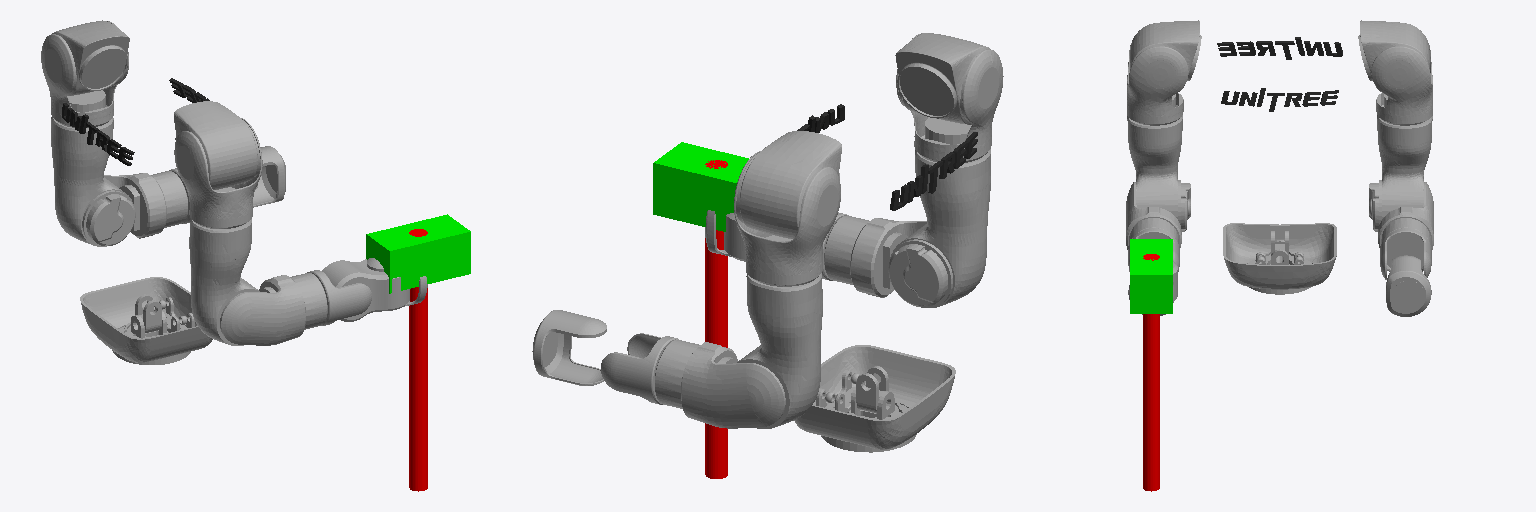
--- Facts derived from the render (not from the file) ---
The picture shows the robot from 3 angles, left to right: view 1: azimuth 30°, elevation 25°; view 2: azimuth 150°, elevation 25°; view 3: azimuth 270°, elevation 25°; orthographic projection.
Robot: g1_29dof — 28 links, 27 joints (8 revolute, 19 fixed); root link pelvis; default pose: every joint at zero.
Visible links, largest first — view 1: left_shoulder_yaw_link, waist_support_link, right_elbow_link, cart, right_shoulder_yaw_link, right_shoulder_pitch_link, right_shoulder_roll_link, pole, left_shoulder_pitch_link, left_elbow_link, left_shoulder_roll_link, right_wrist_pitch_link (+5 smaller); view 2: right_shoulder_yaw_link, waist_support_link, left_elbow_link, left_shoulder_yaw_link, left_shoulder_pitch_link, left_shoulder_roll_link, cart, right_shoulder_pitch_link, right_shoulder_roll_link, right_elbow_link, left_wrist_yaw_link, pole (+5 smaller); view 3: waist_support_link, left_shoulder_yaw_link, right_shoulder_yaw_link, left_shoulder_roll_link, right_shoulder_roll_link, cart, pole, logo_link, left_wrist_yaw_link, left_shoulder_pitch_link, right_shoulder_pitch_link, left_wrist_roll_link (+4 smaller).
Boxes of the visible links, left/top/right/bottom form: left_shoulder_yaw_link: left=51, top=117, right=135, bottom=246; waist_support_link: left=80, top=277, right=212, bottom=362; right_elbow_link: left=220, top=273, right=327, bottom=345; cart: left=366, top=214, right=470, bottom=293; right_shoulder_yaw_link: left=189, top=218, right=259, bottom=345; right_shoulder_pitch_link: left=174, top=101, right=257, bottom=189; right_shoulder_roll_link: left=174, top=118, right=262, bottom=228; pole: left=409, top=229, right=427, bottom=491; left_shoulder_pitch_link: left=52, top=20, right=129, bottom=95; left_elbow_link: left=104, top=171, right=187, bottom=238; left_shoulder_roll_link: left=41, top=21, right=128, bottom=127; right_wrist_pitch_link: left=322, top=259, right=409, bottom=321; right_shoulder_yaw_link: left=888, top=149, right=990, bottom=307; waist_support_link: left=794, top=345, right=955, bottom=449; left_elbow_link: left=655, top=340, right=785, bottom=428; left_shoulder_yaw_link: left=737, top=273, right=822, bottom=428; left_shoulder_pitch_link: left=740, top=131, right=841, bottom=238; left_shoulder_roll_link: left=734, top=151, right=840, bottom=286; cart: left=653, top=142, right=748, bottom=231; right_shoulder_pitch_link: left=895, top=33, right=989, bottom=124; right_shoulder_roll_link: left=896, top=33, right=1003, bottom=162; right_elbow_link: left=824, top=216, right=926, bottom=297; left_wrist_yaw_link: left=532, top=310, right=606, bottom=385; pole: left=705, top=160, right=727, bottom=478; waist_support_link: left=1223, top=223, right=1336, bottom=289; left_shoulder_yaw_link: left=1369, top=115, right=1432, bottom=231; right_shoulder_yaw_link: left=1127, top=115, right=1190, bottom=231; left_shoulder_roll_link: left=1371, top=22, right=1432, bottom=125; right_shoulder_roll_link: left=1127, top=22, right=1188, bottom=125; cart: left=1130, top=239, right=1172, bottom=313; pole: left=1143, top=254, right=1159, bottom=491; logo_link: left=1217, top=37, right=1342, bottom=111; left_wrist_yaw_link: left=1386, top=255, right=1431, bottom=316; left_shoulder_pitch_link: left=1358, top=20, right=1429, bottom=91; right_shoulder_pitch_link: left=1130, top=20, right=1201, bottom=91; left_wrist_roll_link: left=1380, top=228, right=1431, bottom=279.
Size in the robot's own frame: 0.3639 by 0.3632 by 0.4866 metres.
17 mesh visuals loaded from 23 distinct referenced files (17 OBJ); not drawn: 6 (reference not matched to a file when rendering).

URDF robot description (g1_29dof):
<robot name="g1_29dof">
  <mujoco>
    <compiler meshdir="meshes" discardvisual="false"/>
  </mujoco>

  <!-- [CAUTION] uncomment when convert to mujoco -->
  <!-- <link name="world"></link>
  <joint name="floating_base_joint" type="floating">
    <parent link="world"/>
    <child link="pelvis"/>
  </joint> -->

  <link name="pelvis">
    <inertial>
      <origin xyz="0 0 -0.07605" rpy="0 0 0"/>
      <mass value="3.813"/>
      <inertia ixx="0.010549" ixy="0" ixz="2.1E-06" iyy="0.0093089" iyz="0" izz="0.0079184"/>
    </inertial>
    <visual>
      <origin xyz="0 0 0" rpy="0 0 0"/>
      <geometry>
        <mesh filename="meshes/pelvis.obj"/>
      </geometry>
      <material name="dark">
        <color rgba="0.2 0.2 0.2 1"/>
      </material>
    </visual>
  </link>
  <link name="pelvis_contour_link">
    <inertial>
      <origin xyz="0 0 0" rpy="0 0 0"/>
      <mass value="0.001"/>
      <inertia ixx="1e-7" ixy="0" ixz="0" iyy="1e-7" iyz="0" izz="1e-7"/>
    </inertial>
    <visual>
      <origin xyz="0 0 0" rpy="0 0 0"/>
      <geometry>
        <mesh filename="meshes/pelvis_contour_link.obj"/>
      </geometry>
      <material name="white">
        <color rgba="0.7 0.7 0.7 1"/>
      </material>
    </visual>
    <!-- <collision>
      <origin xyz="0 0 0" rpy="0 0 0"/>
      <geometry>
        <mesh filename="meshes/pelvis_contour_link.obj"/>
      </geometry>
    </collision> -->
  </link>
  <joint name="pelvis_contour_joint" type="fixed">
    <parent link="pelvis"/>
    <child link="pelvis_contour_link"/>
  </joint>

  <!-- Legs -->
  <!-- <link name="left_hip_pitch_link">
    <inertial>
      <origin xyz="0.002741 0.047791 -0.02606" rpy="0 0 0"/>
      <mass value="1.35"/>
      <inertia ixx="0.001811" ixy="3.68E-05" ixz="-3.44E-05" iyy="0.0014193" iyz="0.000171" izz="0.0012812"/>
    </inertial>
    <visual>
      <origin xyz="0 0 0" rpy="0 0 0"/>
      <geometry>
        <mesh filename="meshes/left_hip_pitch_link.obj"/>
      </geometry>
      <material name="dark">
        <color rgba="0.2 0.2 0.2 1"/>
      </material>
    </visual>
    <collision>
      <origin xyz="0 0 0" rpy="0 0 0"/>
      <geometry>
        <mesh filename="meshes/left_hip_pitch_link.obj"/>
      </geometry>
    </collision>
  </link>
  <joint name="left_hip_pitch_joint" type="revolute">
    <origin xyz="0 0.064452 -0.1027" rpy="0 0 0"/>
    <parent link="pelvis"/>
    <child link="left_hip_pitch_link"/>
    <axis xyz="0 1 0"/>
    <limit lower="-2.5307" upper="2.8798" effort="88" velocity="32"/>
  </joint>
  <link name="left_hip_roll_link">
    <inertial>
      <origin xyz="0.029812 -0.001045 -0.087934" rpy="0 0 0"/>
      <mass value="1.52"/>
      <inertia ixx="0.0023773" ixy="-3.8E-06" ixz="-0.0003908" iyy="0.0024123" iyz="1.84E-05" izz="0.0016595"/>
    </inertial>
    <visual>
      <origin xyz="0 0 0" rpy="0 0 0"/>
      <geometry>
        <mesh filename="meshes/left_hip_roll_link.obj"/>
      </geometry>
      <material name="white">
        <color rgba="0.7 0.7 0.7 1"/>
      </material>
    </visual>
    <collision>
      <origin xyz="0 0 0" rpy="0 0 0"/>
      <geometry>
        <mesh filename="meshes/left_hip_roll_link.obj"/>
      </geometry>
    </collision>
  </link>
  <joint name="left_hip_roll_joint" type="revolute">
    <origin xyz="0 0.052 -0.030465" rpy="0 -0.1749 0"/>
    <parent link="left_hip_pitch_link"/>
    <child link="left_hip_roll_link"/>
    <axis xyz="1 0 0"/>
    <limit lower="-0.5236" upper="2.9671" effort="88" velocity="32"/>
  </joint>
  <link name="left_hip_yaw_link">
    <inertial>
      <origin xyz="-0.057709 -0.010981 -0.15078" rpy="0 0 0"/>
      <mass value="1.702"/>
      <inertia ixx="0.0057774" ixy="-0.0005411" ixz="-0.0023948" iyy="0.0076124" iyz="-0.0007072" izz="0.003149"/>
    </inertial>
    <visual>
      <origin xyz="0 0 0" rpy="0 0 0"/>
      <geometry>
        <mesh filename="meshes/left_hip_yaw_link.obj"/>
      </geometry>
      <material name="white">
        <color rgba="0.7 0.7 0.7 1"/>
      </material>
    </visual>
    <collision>
      <origin xyz="0 0 0" rpy="0 0 0"/>
      <geometry>
        <mesh filename="meshes/left_hip_yaw_link.obj"/>
      </geometry>
    </collision>
  </link>
  <joint name="left_hip_yaw_joint" type="revolute">
    <origin xyz="0.025001 0 -0.12412" rpy="0 0 0"/>
    <parent link="left_hip_roll_link"/>
    <child link="left_hip_yaw_link"/>
    <axis xyz="0 0 1"/>
    <limit lower="-2.7576" upper="2.7576" effort="88" velocity="32"/>
  </joint>
  <link name="left_knee_link">
    <inertial>
      <origin xyz="0.005457 0.003964 -0.12074" rpy="0 0 0"/>
      <mass value="1.932"/>
      <inertia ixx="0.011329" ixy="4.82E-05" ixz="-4.49E-05" iyy="0.011277" iyz="-0.0007146" izz="0.0015168"/>
    </inertial>
    <visual>
      <origin xyz="0 0 0" rpy="0 0 0"/>
      <geometry>
        <mesh filename="meshes/left_knee_link.obj"/>
      </geometry>
      <material name="white">
        <color rgba="0.7 0.7 0.7 1"/>
      </material>
    </visual>
    <collision>
      <origin xyz="0 0 0" rpy="0 0 0"/>
      <geometry>
        <mesh filename="meshes/left_knee_link.obj"/>
      </geometry>
    </collision>
  </link>
  <joint name="left_knee_joint" type="revolute">
    <origin xyz="-0.078273 0.0021489 -0.17734" rpy="0 0.1749 0"/>
    <parent link="left_hip_yaw_link"/>
    <child link="left_knee_link"/>
    <axis xyz="0 1 0"/>
    <limit lower="-0.087267" upper="2.8798" effort="139" velocity="20"/>
  </joint>
  <link name="left_ankle_pitch_link">
    <inertial>
      <origin xyz="-0.007269 0 0.011137" rpy="0 0 0"/>
      <mass value="0.074"/>
      <inertia ixx="8.4E-06" ixy="0" ixz="-2.9E-06" iyy="1.89E-05" iyz="0" izz="1.26E-05"/>
    </inertial>
    <visual>
      <origin xyz="0 0 0" rpy="0 0 0"/>
      <geometry>
        <mesh filename="meshes/left_ankle_pitch_link.obj"/>
      </geometry>
      <material name="white">
        <color rgba="0.7 0.7 0.7 1"/>
      </material>
    </visual>
    <collision>
      <origin xyz="0 0 0" rpy="0 0 0"/>
      <geometry>
        <mesh filename="meshes/left_ankle_pitch_link.obj"/>
      </geometry>
    </collision>
  </link>
  <joint name="left_ankle_pitch_joint" type="revolute">
    <origin xyz="0 -9.4445E-05 -0.30001" rpy="0 0 0"/>
    <parent link="left_knee_link"/>
    <child link="left_ankle_pitch_link"/>
    <axis xyz="0 1 0"/>
    <limit lower="-0.87267" upper="0.5236" effort="50" velocity="37"/>
  </joint>
  <link name="left_ankle_roll_link">
    <inertial>
      <origin xyz="0.026505 0 -0.016425" rpy="0 0 0"/>
      <mass value="0.608"/>
      <inertia ixx="0.0002231" ixy="2E-07" ixz="8.91E-05" iyy="0.0016161" iyz="-1E-07" izz="0.0016667"/>
    </inertial>
    <visual>
      <origin xyz="0 0 0" rpy="0 0 0"/>
      <geometry>
        <mesh filename="meshes/left_ankle_roll_link.obj"/>
      </geometry>
      <material name="dark">
        <color rgba="0.2 0.2 0.2 1"/>
      </material>
    </visual>
    <collision>
      <origin xyz="-0.05 0.025 -0.03" rpy="0 0 0"/>
      <geometry>
        <sphere radius="0.005"/>
      </geometry>
    </collision>
    <collision>
      <origin xyz="-0.05 -0.025 -0.03" rpy="0 0 0"/>
      <geometry>
        <sphere radius="0.005"/>
      </geometry>
    </collision>
    <collision>
      <origin xyz="0.12 0.03 -0.03" rpy="0 0 0"/>
      <geometry>
        <sphere radius="0.005"/>
      </geometry>
    </collision>
    <collision>
      <origin xyz="0.12 -0.03 -0.03" rpy="0 0 0"/>
      <geometry>
        <sphere radius="0.005"/>
      </geometry>
    </collision>
  </link>
  <joint name="left_ankle_roll_joint" type="revolute">
    <origin xyz="0 0 -0.017558" rpy="0 0 0"/>
    <parent link="left_ankle_pitch_link"/>
    <child link="left_ankle_roll_link"/>
    <axis xyz="1 0 0"/>
    <limit lower="-0.2618" upper="0.2618" effort="50" velocity="37"/>
  </joint>
  <link name="right_hip_pitch_link">
    <inertial>
      <origin xyz="0.002741 -0.047791 -0.02606" rpy="0 0 0"/>
      <mass value="1.35"/>
      <inertia ixx="0.001811" ixy="-3.68E-05" ixz="-3.44E-05" iyy="0.0014193" iyz="-0.000171" izz="0.0012812"/>
    </inertial>
    <visual>
      <origin xyz="0 0 0" rpy="0 0 0"/>
      <geometry>
        <mesh filename="meshes/right_hip_pitch_link.obj"/>
      </geometry>
      <material name="dark">
        <color rgba="0.2 0.2 0.2 1"/>
      </material>
    </visual>
    <collision>
      <origin xyz="0 0 0" rpy="0 0 0"/>
      <geometry>
        <mesh filename="meshes/right_hip_pitch_link.obj"/>
      </geometry>
    </collision>
  </link>
  <joint name="right_hip_pitch_joint" type="revolute">
    <origin xyz="0 -0.064452 -0.1027" rpy="0 0 0"/>
    <parent link="pelvis"/>
    <child link="right_hip_pitch_link"/>
    <axis xyz="0 1 0"/>
    <limit lower="-2.5307" upper="2.8798" effort="88" velocity="32"/>
  </joint>
  <link name="right_hip_roll_link">
    <inertial>
      <origin xyz="0.029812 0.001045 -0.087934" rpy="0 0 0"/>
      <mass value="1.52"/>
      <inertia ixx="0.0023773" ixy="3.8E-06" ixz="-0.0003908" iyy="0.0024123" iyz="-1.84E-05" izz="0.0016595"/>
    </inertial>
    <visual>
      <origin xyz="0 0 0" rpy="0 0 0"/>
      <geometry>
        <mesh filename="meshes/right_hip_roll_link.obj"/>
      </geometry>
      <material name="white">
        <color rgba="0.7 0.7 0.7 1"/>
      </material>
    </visual>
    <collision>
      <origin xyz="0 0 0" rpy="0 0 0"/>
      <geometry>
        <mesh filename="meshes/right_hip_roll_link.obj"/>
      </geometry>
    </collision>
  </link>
  <joint name="right_hip_roll_joint" type="revolute">
    <origin xyz="0 -0.052 -0.030465" rpy="0 -0.1749 0"/>
    <parent link="right_hip_pitch_link"/>
    <child link="right_hip_roll_link"/>
    <axis xyz="1 0 0"/>
    <limit lower="-2.9671" upper="0.5236" effort="88" velocity="32"/>
  </joint>
  <link name="right_hip_yaw_link">
    <inertial>
      <origin xyz="-0.057709 0.010981 -0.15078" rpy="0 0 0"/>
      <mass value="1.702"/>
      <inertia ixx="0.0057774" ixy="0.0005411" ixz="-0.0023948" iyy="0.0076124" iyz="0.0007072" izz="0.003149"/>
    </inertial>
    <visual>
      <origin xyz="0 0 0" rpy="0 0 0"/>
      <geometry>
        <mesh filename="meshes/right_hip_yaw_link.obj"/>
      </geometry>
      <material name="white">
        <color rgba="0.7 0.7 0.7 1"/>
      </material>
    </visual>
    <collision>
      <origin xyz="0 0 0" rpy="0 0 0"/>
      <geometry>
        <mesh filename="meshes/right_hip_yaw_link.obj"/>
      </geometry>
    </collision>
  </link>
  <joint name="right_hip_yaw_joint" type="revolute">
    <origin xyz="0.025001 0 -0.12412" rpy="0 0 0"/>
    <parent link="right_hip_roll_link"/>
    <child link="right_hip_yaw_link"/>
    <axis xyz="0 0 1"/>
    <limit lower="-2.7576" upper="2.7576" effort="88" velocity="32"/>
  </joint>
  <link name="right_knee_link">
    <inertial>
      <origin xyz="0.005457 -0.003964 -0.12074" rpy="0 0 0"/>
      <mass value="1.932"/>
      <inertia ixx="0.011329" ixy="-4.82E-05" ixz="4.49E-05" iyy="0.011277" iyz="0.0007146" izz="0.0015168"/>
    </inertial>
    <visual>
      <origin xyz="0 0 0" rpy="0 0 0"/>
      <geometry>
        <mesh filename="meshes/right_knee_link.obj"/>
      </geometry>
      <material name="white">
        <color rgba="0.7 0.7 0.7 1"/>
      </material>
    </visual>
    <collision>
      <origin xyz="0 0 0" rpy="0 0 0"/>
      <geometry>
        <mesh filename="meshes/right_knee_link.obj"/>
      </geometry>
    </collision>
  </link>
  <joint name="right_knee_joint" type="revolute">
    <origin xyz="-0.078273 -0.0021489 -0.17734" rpy="0 0.1749 0"/>
    <parent link="right_hip_yaw_link"/>
    <child link="right_knee_link"/>
    <axis xyz="0 1 0"/>
    <limit lower="-0.087267" upper="2.8798" effort="139" velocity="20"/>
  </joint>
  <link name="right_ankle_pitch_link">
    <inertial>
      <origin xyz="-0.007269 0 0.011137" rpy="0 0 0"/>
      <mass value="0.074"/>
      <inertia ixx="8.4E-06" ixy="0" ixz="-2.9E-06" iyy="1.89E-05" iyz="0" izz="1.26E-05"/>
    </inertial>
    <visual>
      <origin xyz="0 0 0" rpy="0 0 0"/>
      <geometry>
        <mesh filename="meshes/right_ankle_pitch_link.obj"/>
      </geometry>
      <material name="white">
        <color rgba="0.7 0.7 0.7 1"/>
      </material>
    </visual>
    <collision>
      <origin xyz="0 0 0" rpy="0 0 0"/>
      <geometry>
        <mesh filename="meshes/right_ankle_pitch_link.obj"/>
      </geometry>
    </collision>
  </link>
  <joint name="right_ankle_pitch_joint" type="revolute">
    <origin xyz="0 9.4445E-05 -0.30001" rpy="0 0 0"/>
    <parent link="right_knee_link"/>
    <child link="right_ankle_pitch_link"/>
    <axis xyz="0 1 0"/>
    <limit lower="-0.87267" upper="0.5236" effort="50" velocity="37"/>
  </joint>
  <link name="right_ankle_roll_link">
    <inertial>
      <origin xyz="0.026505 0 -0.016425" rpy="0 0 0"/>
      <mass value="0.608"/>
      <inertia ixx="0.0002231" ixy="-2E-07" ixz="8.91E-05" iyy="0.0016161" iyz="1E-07" izz="0.0016667"/>
    </inertial>
    <visual>
      <origin xyz="0 0 0" rpy="0 0 0"/>
      <geometry>
        <mesh filename="meshes/right_ankle_roll_link.obj"/>
      </geometry>
      <material name="dark">
        <color rgba="0.2 0.2 0.2 1"/>
      </material>
    </visual>
    <collision>
      <origin xyz="-0.05 0.025 -0.03" rpy="0 0 0"/>
      <geometry>
        <sphere radius="0.005"/>
      </geometry>
    </collision>
    <collision>
      <origin xyz="-0.05 -0.025 -0.03" rpy="0 0 0"/>
      <geometry>
        <sphere radius="0.005"/>
      </geometry>
    </collision>
    <collision>
      <origin xyz="0.12 0.03 -0.03" rpy="0 0 0"/>
      <geometry>
        <sphere radius="0.005"/>
      </geometry>
    </collision>
    <collision>
      <origin xyz="0.12 -0.03 -0.03" rpy="0 0 0"/>
      <geometry>
        <sphere radius="0.005"/>
      </geometry>
    </collision>
  </link>
  <joint name="right_ankle_roll_joint" type="revolute">
    <origin xyz="0 0 -0.017558" rpy="0 0 0"/>
    <parent link="right_ankle_pitch_link"/>
    <child link="right_ankle_roll_link"/>
    <axis xyz="1 0 0"/>
    <limit lower="-0.2618" upper="0.2618" effort="50" velocity="37"/>
  </joint> -->

  <!-- Torso (change 3 dof joint to fixed)--> 
  <link name="waist_yaw_link">
    <inertial>
      <origin xyz="0.003964 0 0.018769" rpy="0 0 0"/>
      <mass value="0.244"/>
      <inertia ixx="9.9587E-05" ixy="-1.833E-06" ixz="-1.2617E-05" iyy="0.00012411" iyz="-1.18E-07" izz="0.00015586"/>
    </inertial>
    <visual>
      <origin xyz="0 0 0" rpy="0 0 0"/>
      <geometry>
        <mesh filename="meshes/waist_yaw_link.obj"/>
      </geometry>
      <material name="white">
        <color rgba="0.7 0.7 0.7 1"/>
      </material>
    </visual>
  </link>
  <joint name="waist_yaw_joint" type="fixed">
    <origin xyz="0 0 0" rpy="0 0 0"/>
    <parent link="pelvis"/>
    <child link="waist_yaw_link"/>
    <axis xyz="0 0 1"/>
    <limit lower="-2.618" upper="2.618" effort="88" velocity="32"/>
  </joint>
  <link name="waist_roll_link">
    <inertial>
      <origin xyz="0 -0.000236 0.010111" rpy="0 0 0"/>
      <mass value="0.047"/>
      <inertia ixx="7.515E-06" ixy="0" ixz="0" iyy="6.398E-06" iyz="9.9E-08" izz="3.988E-06"/>
    </inertial>
    <visual>
      <origin xyz="0 0 0" rpy="0 0 0"/>
      <geometry>
        <mesh filename="meshes/waist_roll_link.obj"/>
      </geometry>
      <material name="white">
        <color rgba="0.7 0.7 0.7 1"/>
      </material>
    </visual>
  </link>
  <joint name="waist_roll_joint" type="fixed">
    <origin xyz="-0.0039635 0 0.035" rpy="0 0 0"/>
    <parent link="waist_yaw_link"/>
    <child link="waist_roll_link"/>
    <axis xyz="1 0 0"/>
    <limit lower="-0.52" upper="0.52" effort="50" velocity="37"/>
  </joint>
  <link name="torso_link">
    <inertial>
      <origin xyz="0.002601 0.000257 0.153719" rpy="0 0 0"/>
      <mass value="8.562"/>
      <inertia ixx="0.065674966" ixy="-8.597E-05" ixz="-0.001737252" iyy="0.053535188" iyz="8.6899E-05" izz="0.030808125"/>
    </inertial>
    <visual>
      <origin xyz="0 0 0" rpy="0 0 0"/>
      <geometry>
        <mesh filename="meshes/torso_link.obj"/>
      </geometry>
      <material name="white">
        <color rgba="0.7 0.7 0.7 1"/>
      </material>
    </visual>
    <!-- <collision>
      <origin xyz="0 0 0" rpy="0 0 0"/>
      <geometry>
        <mesh filename="meshes/torso_link.obj"/>
      </geometry>
    </collision> -->
  </link>
  <joint name="waist_pitch_joint" type="fixed">
    <origin xyz="0 0 0.019" rpy="0 0 0"/>
    <parent link="waist_roll_link"/>
    <child link="torso_link"/>
    <axis xyz="0 1 0"/>
    <limit lower="-0.52" upper="0.52" effort="50" velocity="37"/>
  </joint>

  <!-- LOGO -->
  <joint name="logo_joint" type="fixed">
    <origin xyz="0.0039635 0 -0.054" rpy="0 0 0"/>
    <parent link="torso_link"/>
    <child link="logo_link"/>
  </joint>
  <link name="logo_link">
    <inertial>
      <origin xyz="0 0 0" rpy="0 0 0"/>
      <mass value="0.001"/>
      <inertia ixx="1e-7" ixy="0" ixz="0" iyy="1e-7" iyz="0" izz="1e-7"/>
    </inertial>
    <visual>
      <origin xyz="0 0 0" rpy="0 0 0"/>
      <geometry>
        <mesh filename="meshes/logo_link.obj"/>
      </geometry>
      <material name="dark">
        <color rgba="0.2 0.2 0.2 1"/>
      </material>
    </visual>
    <!-- <collision>
      <origin xyz="0 0 0" rpy="0 0 0"/>
      <geometry>
        <mesh filename="meshes/logo_link.obj"/>
      </geometry>
    </collision> -->
  </link>

  <!-- Head -->
  <link name="head_link">
    <inertial>
      <origin xyz="0.005267 0.000299 0.449869" rpy="0 0 0"/>
      <mass value="1.036"/>
      <inertia ixx="0.004085051" ixy="-2.543E-06" ixz="-6.9455E-05" iyy="0.004185212" iyz="-3.726E-06" izz="0.001807911"/>
    </inertial>
    <visual>
      <origin xyz="0 0 0" rpy="0 0 0"/>
      <geometry>
        <mesh filename="meshes/head_link.obj"/>
      </geometry>
      <material name="dark">
        <color rgba="0.2 0.2 0.2 1"/>
      </material>
    </visual>
    <!-- <collision>
      <origin xyz="0 0 0" rpy="0 0 0"/>
      <geometry>
        <mesh filename="meshes/head_link.obj"/>
      </geometry>
    </collision> -->
  </link>
  <joint name="head_joint" type="fixed">
    <origin xyz="0.0039635 0 -0.054" rpy="0 0 0"/>
    <parent link="torso_link"/>
    <child link="head_link"/>
  </joint>

  <!-- Waist Support -->
  <link name="waist_support_link">
    <inertial>
      <origin xyz="0 0 0" rpy="0 0 0"/>
      <mass value="0.001"/>
      <inertia ixx="1e-7" ixy="0" ixz="0" iyy="1e-7" iyz="0" izz="1e-7"/>
    </inertial>
    <visual>
      <origin xyz="0 0 0" rpy="0 0 0"/>
      <geometry>
        <mesh filename="meshes/waist_support_link.obj"/>
      </geometry>
      <material name="white">
        <color rgba="0.7 0.7 0.7 1"/>
      </material>
    </visual>
    <!-- <collision>
      <origin xyz="0 0 0" rpy="0 0 0"/>
      <geometry>
        <mesh filename="meshes/waist_support_link.obj"/>
      </geometry>
    </collision> -->
  </link>
  <joint name="waist_support_joint" type="fixed">
    <origin xyz="0.0039635 0 -0.054" rpy="0 0 0"/>
    <parent link="torso_link"/>
    <child link="waist_support_link"/>
  </joint>

  <!-- IMU -->
  <link name="imu_link"></link>
  <joint name="imu_joint" type="fixed">
    <origin xyz="-0.03959 -0.00224 0.13792" rpy="0 0 0"/>
    <parent link="torso_link"/>
    <child link="imu_link"/>
  </joint>

  <!-- d435 -->
  <link name="d435_link"></link>
  <joint name="d435_joint" type="fixed">
    <origin xyz="0.0576235 0.01753 0.41987" rpy="0 0.8307767239493009 0"/>
    <parent link="torso_link"/>
    <child link="d435_link"/>
  </joint>

  <!-- mid360 -->
  <link name="mid360_link"></link>
  <joint name="mid360_joint" type="fixed">
    <origin xyz="0.0002835 0.00003 0.40618" rpy="0 0.04014257279586953 0"/>
    <parent link="torso_link"/>
    <child link="mid360_link"/>
  </joint>
  <link name="left_shoulder_pitch_link">
    <inertial>
      <origin xyz="0 0.035892 -0.011628" rpy="0 0 0"/>
      <mass value="0.718"/>
      <inertia ixx="0.0004291" ixy="-9.2E-06" ixz="6.4E-06" iyy="0.000453" iyz="2.26E-05" izz="0.000423"/>
    </inertial>
    <visual>
      <origin xyz="0 0 0" rpy="0 0 0"/>
      <geometry>
        <mesh filename="meshes/left_shoulder_pitch_link.obj"/>
      </geometry>
      <material name="white">
        <color rgba="0.7 0.7 0.7 1"/>
      </material>
    </visual>
    <collision>
      <origin xyz="0 0.04 -0.01" rpy="0 1.5707963267948966 0"/>
      <geometry>
        <cylinder radius="0.03" length="0.05"/>
      </geometry>
    </collision>
  </link>
  <joint name="left_shoulder_pitch_joint" type="fixed">
    <origin xyz="0.0039563 0.10022 0.23778" rpy="0.27931 5.4949E-05 -0.00019159"/>
    <parent link="torso_link"/>
    <child link="left_shoulder_pitch_link"/>
    <axis xyz="0 1 0"/>
    <limit lower="-3.0892" upper="2.6704" effort="25" velocity="37"/>
  </joint>
  <link name="left_shoulder_roll_link">
    <inertial>
      <origin xyz="-0.000227 0.00727 -0.063243" rpy="0 0 0"/>
      <mass value="0.643"/>
      <inertia ixx="0.0006177" ixy="-1E-06" ixz="8.7E-06" iyy="0.0006912" iyz="-5.3E-06" izz="0.0003894"/>
    </inertial>
    <visual>
      <origin xyz="0 0 0" rpy="0 0 0"/>
      <geometry>
        <mesh filename="meshes/left_shoulder_roll_link.obj"/>
      </geometry>
      <material name="white">
        <color rgba="0.7 0.7 0.7 1"/>
      </material>
    </visual>
    <collision>
      <origin xyz="-0.004 0.006 -0.053" rpy="0 0 0"/>
      <geometry>
        <cylinder radius="0.03" length="0.03"/>
      </geometry>
    </collision>
  </link>
  <joint name="left_shoulder_roll_joint" type="fixed">
    <origin xyz="0 0.038 -0.013831" rpy="-0.27925 0 0"/>
    <parent link="left_shoulder_pitch_link"/>
    <child link="left_shoulder_roll_link"/>
    <axis xyz="1 0 0"/>
    <limit lower="-1.5882" upper="2.2515" effort="25" velocity="37"/>
  </joint>
  <link name="left_shoulder_yaw_link">
    <inertial>
      <origin xyz="0.010773 -0.002949 -0.072009" rpy="0 0 0"/>
      <mass value="0.734"/>
      <inertia ixx="0.0009988" ixy="7.9E-06" ixz="0.0001412" iyy="0.0010605" iyz="-2.86E-05" izz="0.0004354"/>
    </inertial>
    <visual>
      <origin xyz="0 0 0" rpy="0 0 0"/>
      <geometry>
        <mesh filename="meshes/left_shoulder_yaw_link.obj"/>
      </geometry>
      <material name="white">
        <color rgba="0.7 0.7 0.7 1"/>
      </material>
    </visual>
    <collision>
      <origin xyz="0 0 0" rpy="0 0 0"/>
      <geometry>
        <mesh filename="meshes/left_shoulder_yaw_link.obj"/>
      </geometry>
    </collision>
  </link>
  <joint name="left_shoulder_yaw_joint" type="fixed">
    <origin xyz="0 0.00624 -0.1032" rpy="0 0 0"/>
    <parent link="left_shoulder_roll_link"/>
    <child link="left_shoulder_yaw_link"/>
    <axis xyz="0 0 1"/>
    <limit lower="-2.618" upper="2.618" effort="25" velocity="37"/>
  </joint>
  <link name="left_elbow_link">
    <inertial>
      <origin xyz="0.064956 0.004454 -0.010062" rpy="0 0 0"/>
      <mass value="0.6"/>
      <inertia ixx="0.0002891" ixy="6.53E-05" ixz="1.72E-05" iyy="0.0004152" iyz="-5.6E-06" izz="0.0004197"/>
    </inertial>
    <visual>
      <origin xyz="0 0 0" rpy="0 0 0"/>
      <geometry>
        <mesh filename="meshes/left_elbow_link.obj"/>
      </geometry>
      <material name="white">
        <color rgba="0.7 0.7 0.7 1"/>
      </material>
    </visual>
    <collision>
      <origin xyz="0 0 0" rpy="0 0 0"/>
      <geometry>
        <mesh filename="meshes/left_elbow_link.obj"/>
      </geometry>
    </collision>
  </link>
  <joint name="left_elbow_joint" type="fixed">
    <origin xyz="0.015783 0 -0.080518" rpy="0 0 0"/>
    <parent link="left_shoulder_yaw_link"/>
    <child link="left_elbow_link"/>
    <axis xyz="0 1 0"/>
    <limit lower="-1.0472" upper="2.0944" effort="25" velocity="37"/>
  </joint>
  <joint name="left_wrist_roll_joint" type="fixed">
    <origin xyz="0.100 0.00188791 -0.010" rpy="0 0 0"/>
    <axis xyz="1 0 0"/>
    <parent link="left_elbow_link"/>
    <child link="left_wrist_roll_link"/>
    <limit effort="25" velocity="37" lower="-1.972222054" upper="1.972222054"/>
  </joint>
  <link name="left_wrist_roll_link">
    <inertial>
      <origin xyz="0.01713944778 0.00053759094 0.00000048864" rpy="0 0 0"/>
      <mass value="0.08544498"/>
      <inertia ixx="0.00004821544023" ixy="-0.00000424511021" ixz="0.00000000510599" iyy="0.00003722899093" iyz="-0.00000000123525" izz="0.00005482106541"/>
    </inertial>
    <visual>
      <origin xyz="0 0 0" rpy="0 0 0"/>
      <geometry>
        <mesh filename="meshes/left_wrist_roll_link.obj"/>
      </geometry>
      <material name="white">
        <color rgba="0.7 0.7 0.7 1"/>
      </material>
    </visual>
    <collision>
      <origin xyz="0 0 0" rpy="0 0 0"/>
      <geometry>
        <mesh filename="meshes/left_wrist_roll_link.obj"/>
      </geometry>
    </collision>
  </link>
  <joint name="left_wrist_pitch_joint" type="fixed">
    <origin xyz="0.038 0 0" rpy="0 0 0"/>
    <axis xyz="0 1 0"/>
    <parent link="left_wrist_roll_link"/>
    <child link="left_wrist_pitch_link"/>
    <limit effort="5" velocity="22" lower="-1.614429558" upper="1.614429558"/>
  </joint>
  <link name="left_wrist_pitch_link">
    <inertial>
      <origin xyz="0.02299989837 -0.00111685314 -0.00111658096" rpy="0 0 0"/>
      <mass value="0.48404956"/>
      <inertia ixx="0.00016579646273" ixy="-0.00001231206746" ixz="0.00001231699194" iyy="0.00042954057410" iyz="0.00000081417712" izz="0.00042953697654"/>
    </inertial>
    <visual>
      <origin xyz="0 0 0" rpy="0 0 0"/>
      <geometry>
        <mesh filename="meshes/left_wrist_pitch_link.obj"/>
      </geometry>
      <material name="white">
        <color rgba="0.7 0.7 0.7 1"/>
      </material>
    </visual>
    <collision>
      <origin xyz="0 0 0" rpy="0 0 0"/>
      <geometry>
        <mesh filename="meshes/left_wrist_pitch_link.obj"/>
      </geometry>
    </collision>
  </link>
  <joint name="left_wrist_yaw_joint" type="fixed">
    <origin xyz="0.046 0 0" rpy="0 0 0"/>
    <axis xyz="0 0 1"/>
    <parent link="left_wrist_pitch_link"/>
    <child link="left_wrist_yaw_link"/>
    <limit effort="5" velocity="22" lower="-1.614429558" upper="1.614429558"/>
  </joint>
  <link name="left_wrist_yaw_link">
    <inertial>
      <origin xyz="0.02200381568 0.00049485096 0.00053861123" rpy="0 0 0"/>
      <mass value="0.08457647"/>
      <inertia ixx="0.00004929128828" ixy="-0.00000045735494" ixz="0.00000445867591" iyy="0.00005973338134" iyz="0.00000043217198" izz="0.00003928083826"/>
    </inertial>
    <visual>
      <origin xyz="0 0 0" rpy="0 0 0"/>
      <geometry>
        <mesh filename="meshes/left_wrist_yaw_link.obj"/>
      </geometry>
      <material name="white">
        <color rgba="0.7 0.7 0.7 1"/>
      </material>
    </visual>
    <collision>
      <origin xyz="0 0 0" rpy="0 0 0"/>
      <geometry>
        <mesh filename="meshes/left_wrist_yaw_link.obj"/>
      </geometry>
    </collision>
  </link>
  <joint name="left_hand_palm_joint" type="fixed">
    <origin xyz="0.0415 0.003 0" rpy="0 0 0"/>
    <parent link="left_wrist_yaw_link"/>
    <child link="left_rubber_hand"/>
  </joint>
  <link name="left_rubber_hand">
    <inertial>
      <origin xyz="0.05361310808 -0.00295905240 0.00215413091" rpy="0 0 0"/>
      <mass value="0.170"/>
      <inertia ixx="0.00010099485234748" ixy="0.00003618590790516" ixz="-0.00000074301518642" iyy="0.00028135871571621" iyz="0.00000330189743286" izz="0.00021894770413514"/>
    </inertial>
    <visual>
      <origin xyz="0 0 0" rpy="0 0 0"/>
      <geometry>
        <mesh filename="meshes/left_rubber_hand.obj"/>
      </geometry>
      <material name="white">
        <color rgba="0.7 0.7 0.7 1"/>
      </material>
    </visual>
  </link>







  <link name="right_shoulder_pitch_link">
    <inertial>
      <origin xyz="0 -0.035892 -0.011628" rpy="0 0 0"/>
      <mass value="0.718"/>
      <inertia ixx="0.0004291" ixy="9.2E-06" ixz="6.4E-06" iyy="0.000453" iyz="-2.26E-05" izz="0.000423"/>
    </inertial>
    <visual>
      <origin xyz="0 0 0" rpy="0 0 0"/>
      <geometry>
        <mesh filename="meshes/right_shoulder_pitch_link.obj"/>
      </geometry>
      <material name="white">
        <color rgba="0.7 0.7 0.7 1"/>
      </material>
    </visual>
    <collision>
      <origin xyz="0 -0.04 -0.01" rpy="0 1.5707963267948966 0"/>
      <geometry>
        <cylinder radius="0.03" length="0.05"/>
      </geometry>
    </collision>
  </link>
  <joint name="right_shoulder_pitch_joint" type="revolute">
    <origin xyz="0.0039563 -0.10021 0.23778" rpy="-0.27931 5.4949E-05 0.00019159"/>
    <parent link="torso_link"/>
    <child link="right_shoulder_pitch_link"/>
    <axis xyz="0 1 0"/>
    <limit lower="-3.0892" upper="2.6704" effort="25" velocity="37"/>
  </joint>
  <link name="right_shoulder_roll_link">
    <inertial>
      <origin xyz="-0.000227 -0.00727 -0.063243" rpy="0 0 0"/>
      <mass value="0.643"/>
      <inertia ixx="0.0006177" ixy="1E-06" ixz="8.7E-06" iyy="0.0006912" iyz="5.3E-06" izz="0.0003894"/>
    </inertial>
    <visual>
      <origin xyz="0 0 0" rpy="0 0 0"/>
      <geometry>
        <mesh filename="meshes/right_shoulder_roll_link.obj"/>
      </geometry>
      <material name="white">
        <color rgba="0.7 0.7 0.7 1"/>
      </material>
    </visual>
    <collision>
      <origin xyz="-0.004 -0.006 -0.053" rpy="0 0 0"/>
      <geometry>
        <cylinder radius="0.03" length="0.03"/>
      </geometry>
    </collision>
  </link>
  <joint name="right_shoulder_roll_joint" type="revolute">
    <origin xyz="0 -0.038 -0.013831" rpy="0.27925 0 0"/>
    <parent link="right_shoulder_pitch_link"/>
    <child link="right_shoulder_roll_link"/>
    <axis xyz="1 0 0"/>
    <limit lower="-2.2515" upper="1.5882" effort="25" velocity="37"/>
  </joint>
  <link name="right_shoulder_yaw_link">
    <inertial>
      <origin xyz="0.010773 0.002949 -0.072009" rpy="0 0 0"/>
      <mass value="0.734"/>
      <inertia ixx="0.0009988" ixy="-7.9E-06" ixz="0.0001412" iyy="0.0010605" iyz="2.86E-05" izz="0.0004354"/>
    </inertial>
    <visual>
      <origin xyz="0 0 0" rpy="0 0 0"/>
      <geometry>
        <mesh filename="meshes/right_shoulder_yaw_link.obj"/>
      </geometry>
      <material name="white">
        <color rgba="0.7 0.7 0.7 1"/>
      </material>
    </visual>
    <collision>
      <origin xyz="0 0 0" rpy="0 0 0"/>
      <geometry>
        <mesh filename="meshes/right_shoulder_yaw_link.obj"/>
      </geometry>
    </collision>
  </link>
  <joint name="right_shoulder_yaw_joint" type="revolute">
    <origin xyz="0 -0.00624 -0.1032" rpy="0 0 0"/>
    <parent link="right_shoulder_roll_link"/>
    <child link="right_shoulder_yaw_link"/>
    <axis xyz="0 0 1"/>
    <limit lower="-2.618" upper="2.618" effort="25" velocity="37"/>
  </joint>
  <link name="right_elbow_link">
    <inertial>
      <origin xyz="0.064956 -0.004454 -0.010062" rpy="0 0 0"/>
      <mass value="0.6"/>
      <inertia ixx="0.0002891" ixy="-6.53E-05" ixz="1.72E-05" iyy="0.0004152" iyz="5.6E-06" izz="0.0004197"/>
    </inertial>
    <visual>
      <origin xyz="0 0 0" rpy="0 0 0"/>
      <geometry>
        <mesh filename="meshes/right_elbow_link.obj"/>
      </geometry>
      <material name="white">
        <color rgba="0.7 0.7 0.7 1"/>
      </material>
    </visual>
    <collision>
      <origin xyz="0 0 0" rpy="0 0 0"/>
      <geometry>
        <mesh filename="meshes/right_elbow_link.obj"/>
      </geometry>
    </collision>
  </link>
  <joint name="right_elbow_joint" type="revolute">
    <origin xyz="0.015783 0 -0.080518" rpy="0 0 0"/>
    <parent link="right_shoulder_yaw_link"/>
    <child link="right_elbow_link"/>
    <axis xyz="0 1 0"/>
    <limit lower="-1.0472" upper="2.0944" effort="25" velocity="37"/>
  </joint>
  <joint name="right_wrist_roll_joint" type="revolute">
    <origin xyz="0.100 -0.00188791 -0.010" rpy="0 0 0"/>
    <axis xyz="1 0 0"/>
    <parent link="right_elbow_link"/>
    <child link="right_wrist_roll_link"/>
    <limit effort="25" velocity="37" lower="-1.972222054" upper="1.972222054"/>
  </joint>
  <link name="right_wrist_roll_link">
    <inertial>
      <origin xyz="0.01713944778 -0.00053759094 0.00000048864" rpy="0 0 0"/>
      <mass value="0.08544498"/>
      <inertia ixx="0.00004821544023" ixy="0.00000424511021" ixz="0.00000000510599" iyy="0.00003722899093" iyz="0.00000000123525" izz="0.00005482106541"/>
    </inertial>
    <visual>
      <origin xyz="0 0 0" rpy="0 0 0"/>
      <geometry>
        <mesh filename="meshes/right_wrist_roll_link.obj"/>
      </geometry>
      <material name="white">
        <color rgba="0.7 0.7 0.7 1"/>
      </material>
    </visual>
    <collision>
      <origin xyz="0 0 0" rpy="0 0 0"/>
      <geometry>
        <mesh filename="meshes/right_wrist_roll_link.obj"/>
      </geometry>
    </collision>
  </link>
  <joint name="right_wrist_pitch_joint" type="revolute">
    <origin xyz="0.038 0 0" rpy="0 0 0"/>
    <axis xyz="0 1 0"/>
    <parent link="right_wrist_roll_link"/>
    <child link="right_wrist_pitch_link"/>
    <limit effort="5" velocity="22" lower="-1.614429558" upper="1.614429558"/>
  </joint>
  <link name="right_wrist_pitch_link">
    <inertial>
      <origin xyz="0.02299989837 0.00111685314 -0.00111658096" rpy="0 0 0"/>
      <mass value="0.48404956"/>
      <inertia ixx="0.00016579646273" ixy="0.00001231206746" ixz="0.00001231699194" iyy="0.00042954057410" iyz="-0.00000081417712" izz="0.00042953697654"/>
    </inertial>
    <visual>
      <origin xyz="0 0 0" rpy="0 0 0"/>
      <geometry>
        <mesh filename="meshes/right_wrist_pitch_link.obj"/>
      </geometry>
      <material name="white">
        <color rgba="0.7 0.7 0.7 1"/>
      </material>
    </visual>
    <collision>
      <origin xyz="0 0 0" rpy="0 0 0"/>
      <geometry>
        <mesh filename="meshes/right_wrist_pitch_link.obj"/>
      </geometry>
    </collision>
  </link>
  <joint name="right_wrist_yaw_joint" type="revolute">
    <origin xyz="0.046 0 0" rpy="0 0 0"/>
    <axis xyz="0 0 1"/>
    <parent link="right_wrist_pitch_link"/>
    <child link="right_wrist_yaw_link"/>
    <limit effort="5" velocity="22" lower="-1.614429558" upper="1.614429558"/>
  </joint>
  <link name="right_wrist_yaw_link">
    <inertial>
      <origin xyz="0.02200381568 -0.00049485096 0.00053861123" rpy="0 0 0"/>
      <mass value="0.08457647"/>
      <inertia ixx="0.00004929128828" ixy="0.00000045735494" ixz="0.00000445867591" iyy="0.00005973338134" iyz="-0.00000043217198" izz="0.00003928083826"/>
    </inertial>
    <visual>
      <origin xyz="0 0 0" rpy="0 0 0"/>
      <geometry>
        <mesh filename="meshes/right_wrist_yaw_link.obj"/>
      </geometry>
      <material name="white">
        <color rgba="0.7 0.7 0.7 1"/>
      </material>
    </visual>
    <collision>
      <origin xyz="0 0 0" rpy="0 0 0"/>
      <geometry>
        <mesh filename="meshes/right_wrist_yaw_link.obj"/>
      </geometry>
    </collision>
  </link>

<joint name="right_hand_palm_joint" type="fixed">
  <origin xyz="0.0415 -0.003 0" rpy="0 0 0"/>
  <parent link="right_wrist_yaw_link"/>
  <child link="cart"/>
</joint>

<link name="cart">
  <inertial>
    <origin xyz="0 0 0.025" rpy="0 0 0"/>
    <mass value="0.5"/> <!-- Similar to wrist mass -->
    <inertia ixx="0.001" ixy="0" ixz="0" iyy="0.001" iyz="0" izz="0.001"/>
  </inertial>
  <visual>
    <origin xyz="0 0 0.025" rpy="0 0 0"/>
    <geometry>
      <box size="0.1 0.05 0.05"/> <!-- Scaled down size -->
    </geometry>
    <material name="green">
      <color rgba="0 1 0 1"/>
    </material>
  </visual>
</link>

<link name="pole">
  <inertial>
    <origin xyz="0 0 -0.15" rpy="0 0 0"/> <!-- 30cm pole -->
    <mass value="0.3"/> <!-- Lighter than cart -->
    <inertia ixx="0.0001" ixy="0" ixz="0" iyy="0.0001" iyz="0" izz="0.0001"/>
  </inertial>
  <visual>
    <origin xyz="0 0 -0.15" rpy="0 0 0"/>
    <geometry>
      <cylinder length="0.3" radius="0.01"/>
    </geometry>
    <material name="red">
      <color rgba="1 0 0 1"/>
    </material>
  </visual>
</link>

<joint name="pole_joint" type="revolute">
  <parent link="cart"/>
  <child link="pole"/>
  <origin xyz="0 0 0.05"/> <!-- Mounting offset -->
  <axis xyz="0 1 0"/> <!-- Rotation about y-axis -->
  <limit lower="-1.57" upper="1.57"/>
</joint>

<!-- right arm -->
<transmission type="SimpleTransmission" name="right_shoulder_pitch_joint">
  <actuator name="right_shoulder_pitch_joint"/>
  <joint name="right_shoulder_pitch_joint"/>
</transmission>
<transmission type="SimpleTransmission" name="right_shoulder_roll_joint_trans">
  <actuator name="right_shoulder_roll_joint"/>
  <joint name="right_shoulder_roll_joint"/>
</transmission>
<transmission type="SimpleTransmission" name="right_shoulder_yaw_joint_trans">
  <actuator name="right_shoulder_yaw_joint"/>
  <joint name="right_shoulder_yaw_joint"/>
</transmission>
<transmission type="SimpleTransmission" name="right_elbow_joint_trans">
  <actuator name="right_elbow_joint"/>
  <joint name="right_elbow_joint"/>
</transmission>
<transmission type="SimpleTransmission" name="right_wrist_roll_joint_trans">
  <actuator name="right_wrist_roll_joint"/>
  <joint name="right_wrist_roll_joint"/>
</transmission>
<transmission type="SimpleTransmission" name="right_wrist_pitch_joint_trans">
  <actuator name="right_wrist_pitch_joint"/>
  <joint name="right_wrist_pitch_joint"/>
</transmission>
<transmission type="SimpleTransmission" name="right_wrist_yaw_joint_trans">
  <actuator name="right_wrist_yaw_joint"/>
  <joint name="right_wrist_yaw_joint"/>
</transmission>

</robot>
